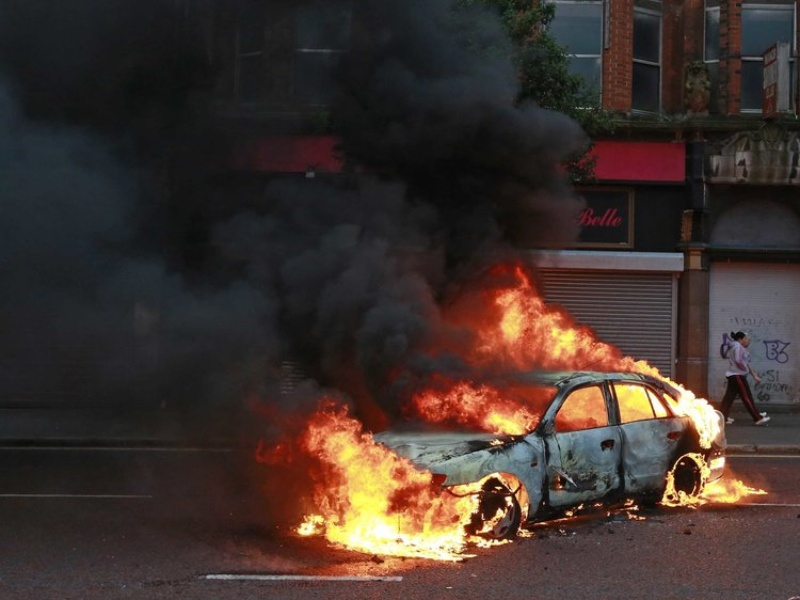smoke: (1, 11, 407, 394)
